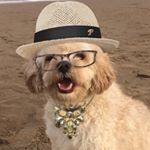puppy: (20, 42, 121, 110)
